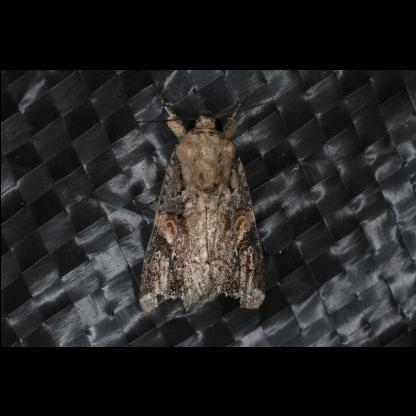Fall Armyworm Moth: (135, 79, 269, 317)
